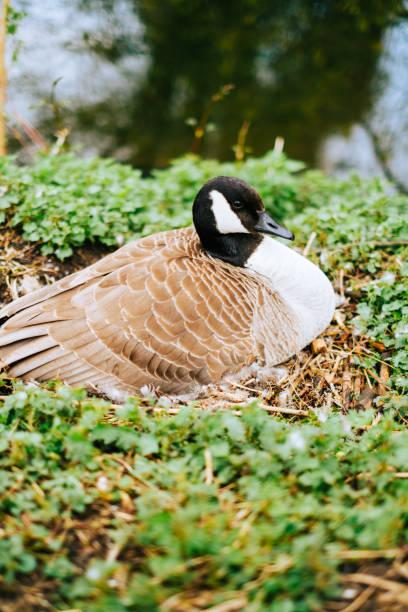Canadian-Goose: (4, 170, 336, 402)
